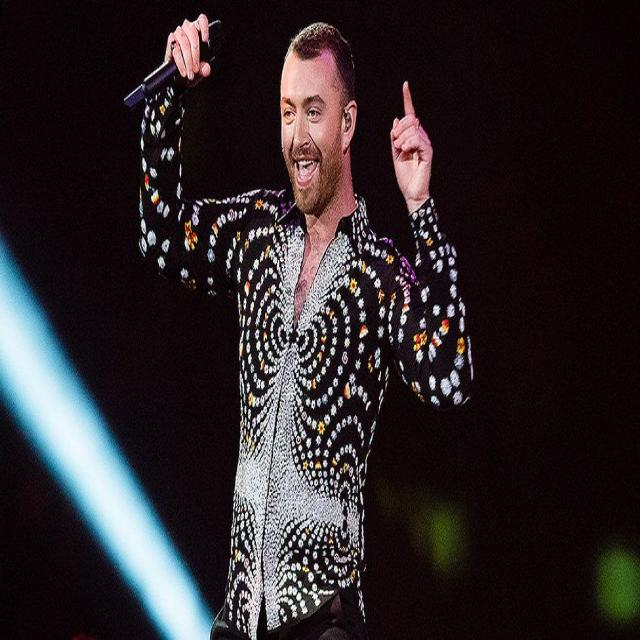mobile_phonerotation: (121, 16, 224, 113)
